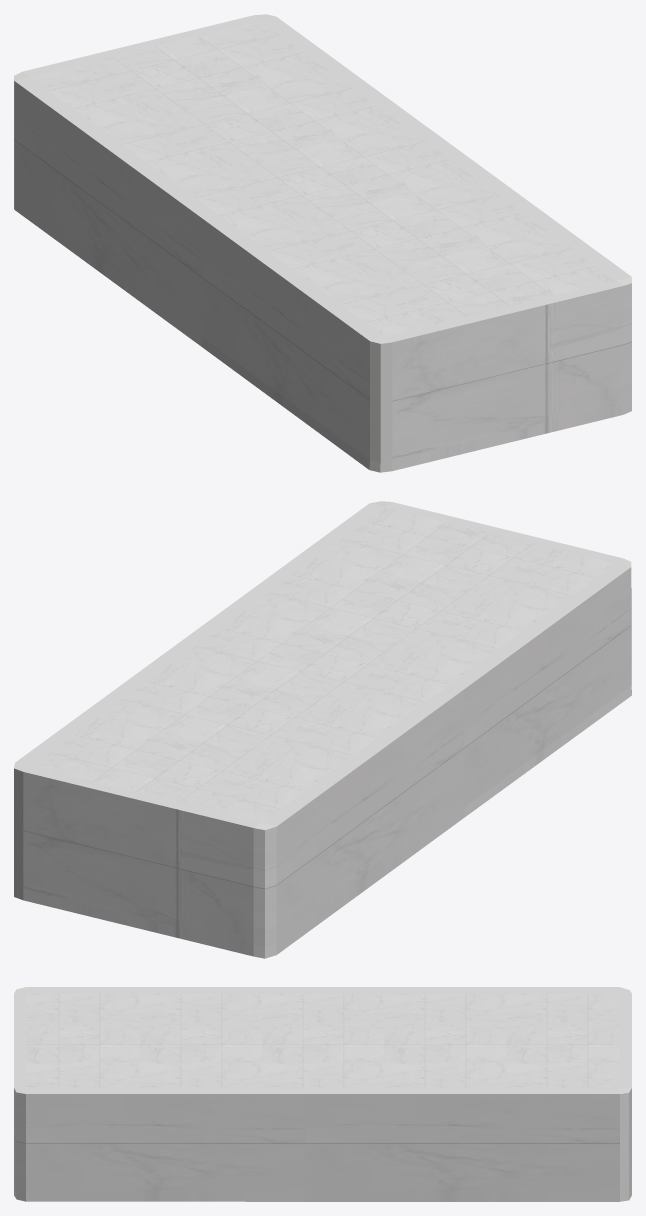
Rendered from store3dcomplete2.glb.
3 renders of one model, top to bottom at view 1: azimuth 30°, elevation 25°; view 2: azimuth 150°, elevation 25°; view 3: azimuth 270°, elevation 25°, orthographic. The views are drawn at different scales.
Visible parts, largest first — view 1: Cube; view 2: Cube; view 3: Cube.
Boxes of the visible parts, x1,y1,x2,y2 form: Cube: [14, 14, 631, 472]; Cube: [14, 501, 631, 958]; Cube: [14, 987, 631, 1201].
Bounding box in the file's own units: 70.05 × 32.98 × 171.
5 materials, 5 textured.
